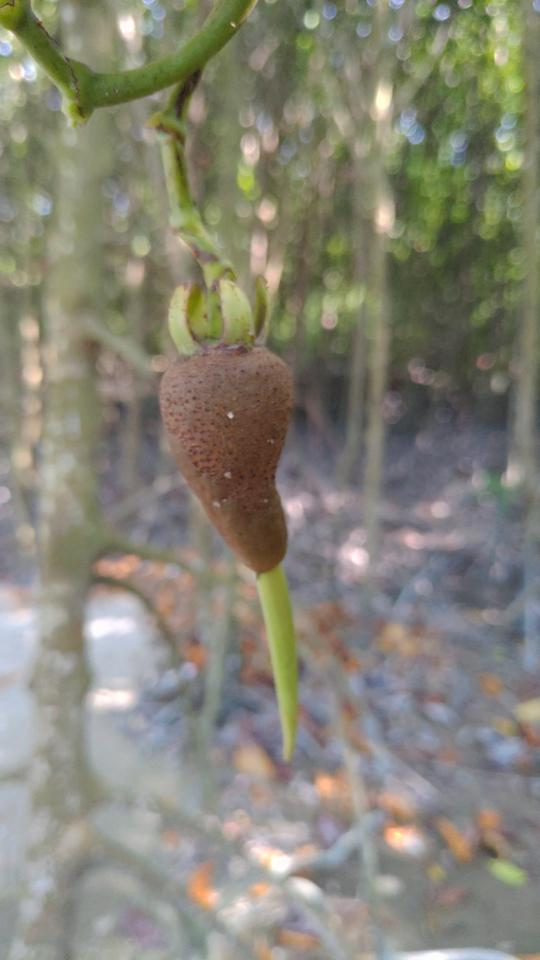mentah: (143, 274, 324, 771)
